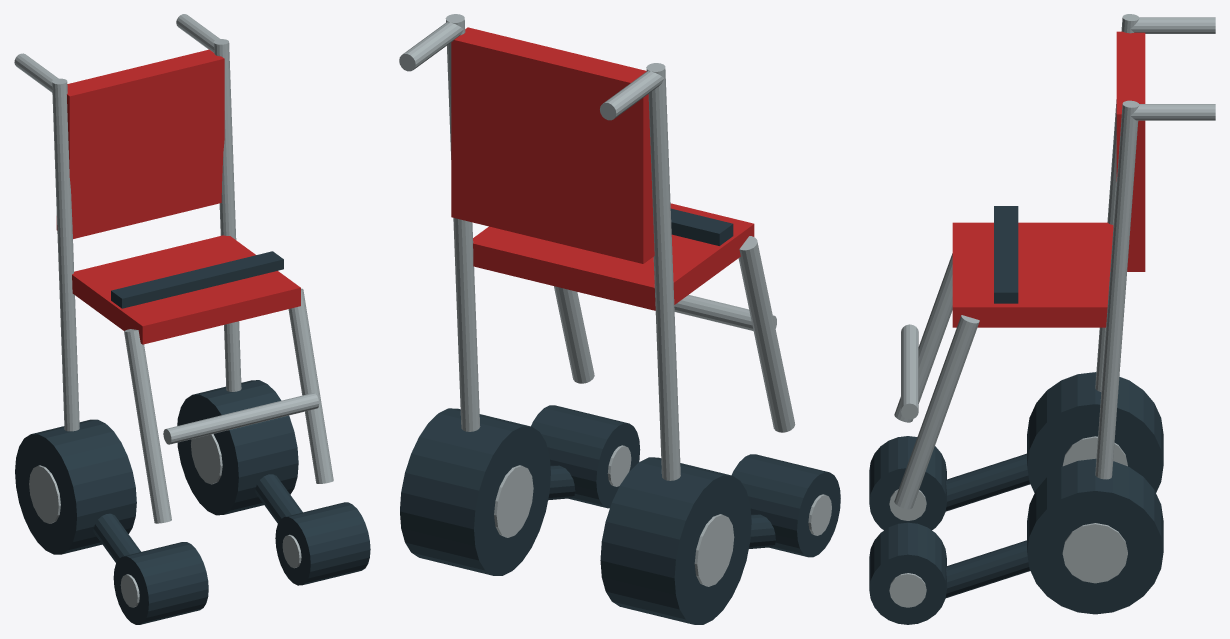
File: scendance-plan-evacuation-chair.glb
The picture shows the model from 3 angles, left to right: view 1: azimuth 30°, elevation 25°; view 2: azimuth 150°, elevation 25°; view 3: azimuth 270°, elevation 25°; orthographic projection. The views are drawn at different scales.
Size of the model in its own units: 0.642 by 1.25 by 0.777.
